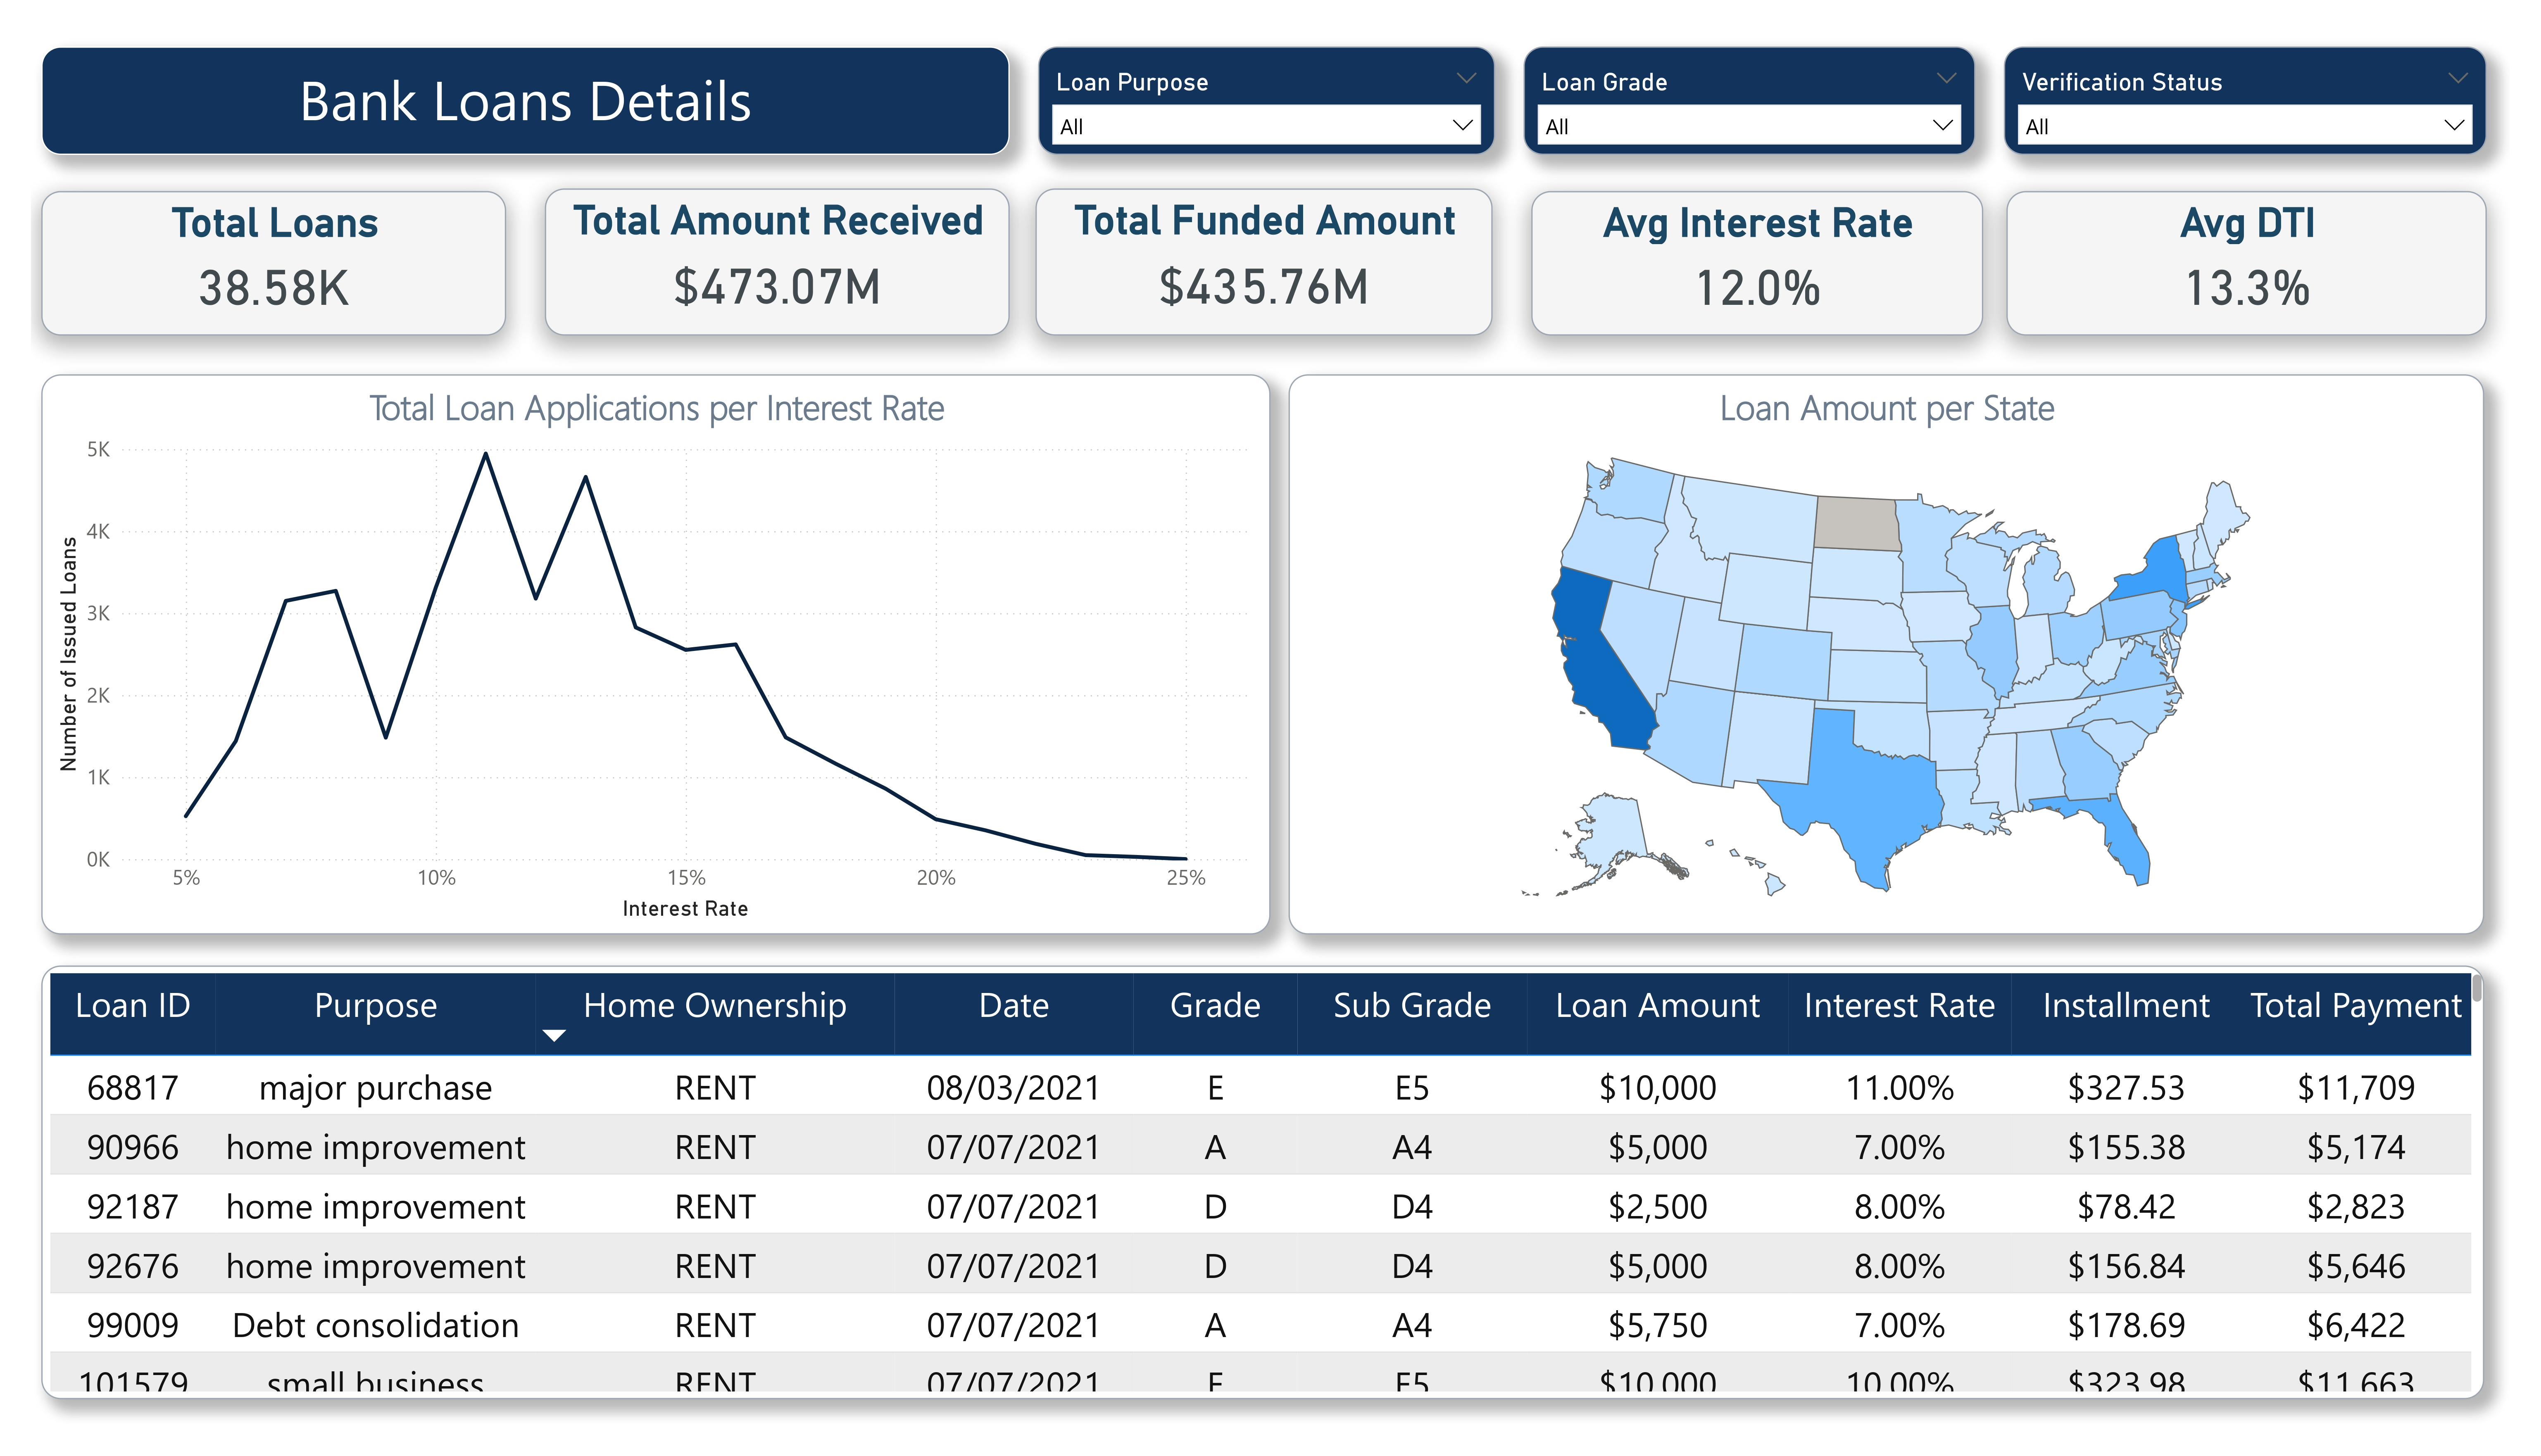

What the dashboard file says about the page in this screenshot:
{"tool":"powerbi","page":{"name":"Loan Details","canvas":[1920,1080],"ordinal":1},"visuals":[{"type":"textbox","box":[8,12,750,84],"z":0},{"type":"card","title":"Total Loans","fields":{"Values":["CountNonNull(fact_loan.loan_id_pk_sk)"]},"box":[8,124,360,112],"z":1000},{"type":"card","title":"Avg Interest Rate","fields":{"Values":["Avg(fact_loan.interest_rate)"]},"box":[1162,124,350,112],"z":2000},{"type":"card","title":"Avg DTI","fields":{"Values":["Avg(fact_loan.dti)"]},"box":[1530,124,372,112],"z":3000},{"type":"card","title":"Total Amount Received","fields":{"Values":["Sum(fact_loan.total_payment)"]},"box":[398,122,360,114],"z":4000},{"type":"card","title":"Total Funded Amount","fields":{"Values":["Sum(fact_loan.loan_amount)"]},"box":[778,122,354,114],"z":5000},{"type":"tableEx","fields":{"Values":["fact_loan.loan_id_bk","fact_loan.purpose","dim_borrowers.home_ownership","dim_date.date","dim_credit_grade.grade","dim_credit_grade.sub_grade","fact_loan.loan_amount","fact_loan.interest_rate","fact_loan.installment","fact_loan.total_payment"]},"box":[8,724,1892,336],"z":6000},{"type":"slicer","fields":{"Values":["fact_loan.purpose"]},"box":[780,12,354,84],"z":7000},{"type":"slicer","fields":{"Values":["dim_credit_grade.grade"]},"box":[1156,12,350,84],"z":8000},{"type":"slicer","fields":{"Values":["dim_borrowers.verification_status"]},"box":[1528,12,374,84],"z":9000},{"type":"lineChart","title":"Total Loan Applications per Interest Rate","fields":{"Category":["fact_loan.interest_rate"],"Y":["CountNonNull(fact_loan.loan_id_pk_sk)"]},"box":[8,266,952,434],"z":10000},{"type":"shapeMap","title":"Loan Amount per State","fields":{"Category":["dim_borrowers.state_code"],"Value":["CountNonNull(dim_borrowers.borrowers_id_sk)"]},"box":[974,266,926,434],"z":11000}]}

Visuals, with their boxes on the page's 1920x1080 design canvas (x1, y1, x2, y2). These are canvas units, not pixel positions in the 2541x1456 screenshot, which may show the page scaled, cropped or inside an application window:
textbox: <bbox>8, 12, 758, 96</bbox>
"Total Loans" card: <bbox>8, 124, 368, 236</bbox>
"Avg Interest Rate" card: <bbox>1162, 124, 1512, 236</bbox>
"Avg DTI" card: <bbox>1530, 124, 1902, 236</bbox>
"Total Amount Received" card: <bbox>398, 122, 758, 236</bbox>
"Total Funded Amount" card: <bbox>778, 122, 1132, 236</bbox>
tableEx - fact_loan.loan_id_bk x fact_loan.purpose: <bbox>8, 724, 1900, 1060</bbox>
slicer - fact_loan.purpose: <bbox>780, 12, 1134, 96</bbox>
slicer - dim_credit_grade.grade: <bbox>1156, 12, 1506, 96</bbox>
slicer - dim_borrowers.verification_status: <bbox>1528, 12, 1902, 96</bbox>
"Total Loan Applications per Interest Rate" lineChart: <bbox>8, 266, 960, 700</bbox>
"Loan Amount per State" shapeMap: <bbox>974, 266, 1900, 700</bbox>
